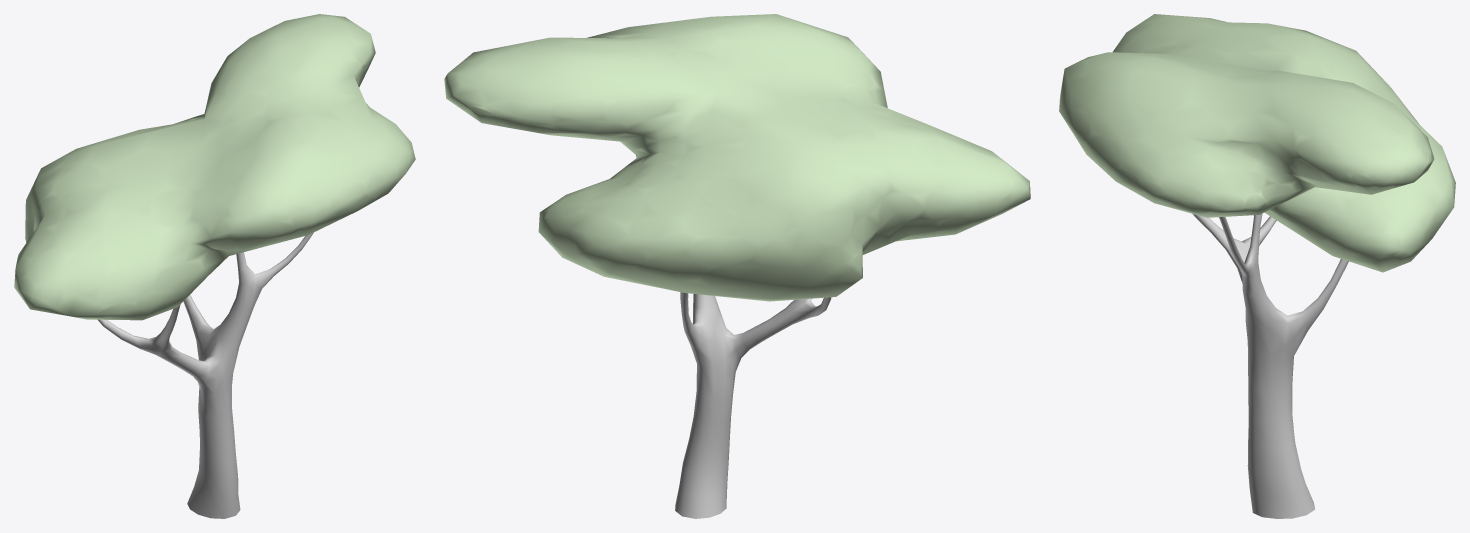
The model's file is stylized-tree-06.fbx.
The picture shows the model from 3 angles, left to right: view 1: azimuth 30°, elevation 25°; view 2: azimuth 150°, elevation 25°; view 3: azimuth 270°, elevation 25°; orthographic projection. The views are drawn at different scales.
Visible parts, largest first — view 1: Tree_06_leaves, Tree_06_bark; view 2: Tree_06_leaves, Tree_06_bark; view 3: Tree_06_leaves, Tree_06_bark.
Boxes of the visible parts, x1,y1,x2,y2 form: Tree_06_leaves: (14,14,415,320); Tree_06_bark: (97,232,313,518); Tree_06_leaves: (444,14,1030,301); Tree_06_bark: (636,155,831,518); Tree_06_leaves: (1059,14,1455,272); Tree_06_bark: (1192,213,1348,518).
Bounding box in the file's own units: 345 × 315 × 242.
